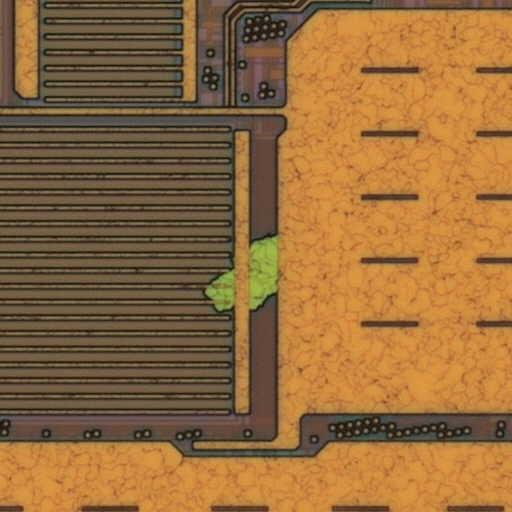BLOCK ETCH: (200, 228, 295, 320)
